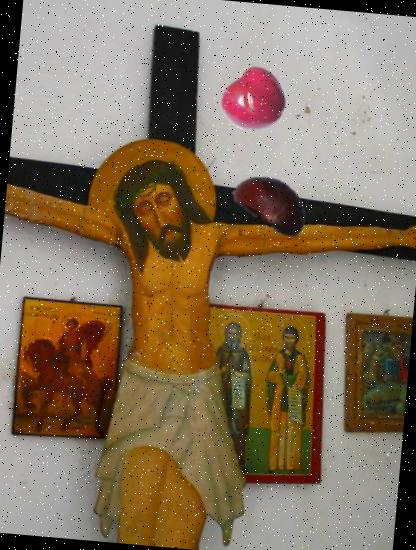Cherry: (218, 64, 290, 136)
Chestnut: (230, 159, 318, 247)
